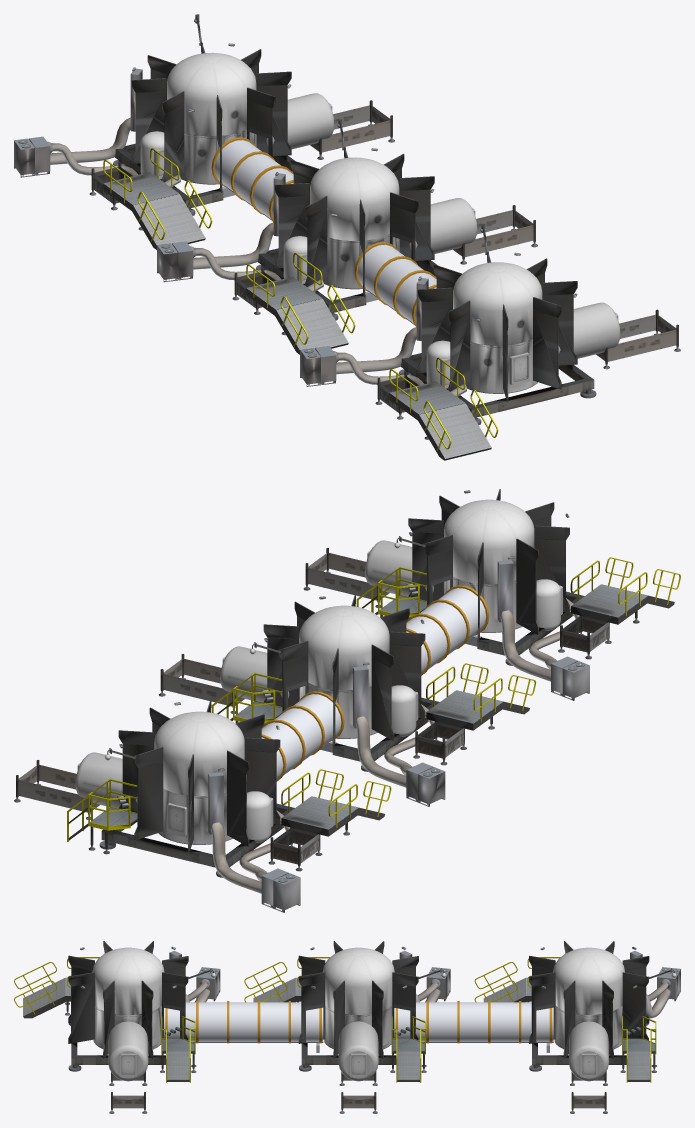
File: outpost.glb
3 views of the same model, one above another, from view 1: azimuth 30°, elevation 25°; view 2: azimuth 150°, elevation 25°; view 3: azimuth 270°, elevation 25° (orthographic). The views are drawn at different scales.
Visible parts, largest first — view 1: C_greenhouse_NASA_frame, B_lab_NASA_frame, A_habitat_NASA_frame, C_greenhouse_NASA_shell, B_lab_NASA_shell, A_habitat_NASA_shell, tunnel_C_A, tunnel_A_B; view 2: B_lab_NASA_frame, A_habitat_NASA_frame, C_greenhouse_NASA_frame, B_lab_NASA_shell, A_habitat_NASA_shell, C_greenhouse_NASA_shell, tunnel_A_B, tunnel_C_A; view 3: C_greenhouse_NASA_frame, B_lab_NASA_frame, A_habitat_NASA_frame, A_habitat_NASA_shell, B_lab_NASA_shell, C_greenhouse_NASA_shell, tunnel_C_A, tunnel_A_B.
Boxes of the visible parts, x1,y1,x2,y2 form: C_greenhouse_NASA_frame: [300, 223, 680, 460]; B_lab_NASA_frame: [14, 14, 394, 249]; A_habitat_NASA_frame: [157, 119, 537, 354]; C_greenhouse_NASA_shell: [426, 262, 620, 393]; B_lab_NASA_shell: [140, 52, 334, 184]; A_habitat_NASA_shell: [283, 157, 477, 289]; tunnel_C_A: [354, 242, 436, 326]; tunnel_A_B: [211, 137, 293, 222]; B_lab_NASA_frame: [14, 701, 391, 912]; A_habitat_NASA_frame: [158, 595, 536, 806]; C_greenhouse_NASA_frame: [303, 489, 680, 700]; B_lab_NASA_shell: [75, 711, 273, 844]; A_habitat_NASA_shell: [220, 605, 418, 738]; C_greenhouse_NASA_shell: [365, 499, 562, 632]; tunnel_A_B: [261, 691, 344, 781]; tunnel_C_A: [406, 585, 489, 675]; C_greenhouse_NASA_frame: [14, 941, 220, 1113]; B_lab_NASA_frame: [474, 941, 680, 1113]; A_habitat_NASA_frame: [244, 941, 450, 1113]; A_habitat_NASA_shell: [323, 947, 394, 1081]; B_lab_NASA_shell: [553, 947, 624, 1081]; C_greenhouse_NASA_shell: [92, 947, 164, 1081]; tunnel_C_A: [164, 1001, 323, 1052]; tunnel_A_B: [394, 1001, 553, 1052].
Bounding box in the file's own units: 16.67 × 5.83 × 37.65.
4 materials, 4 textured.
